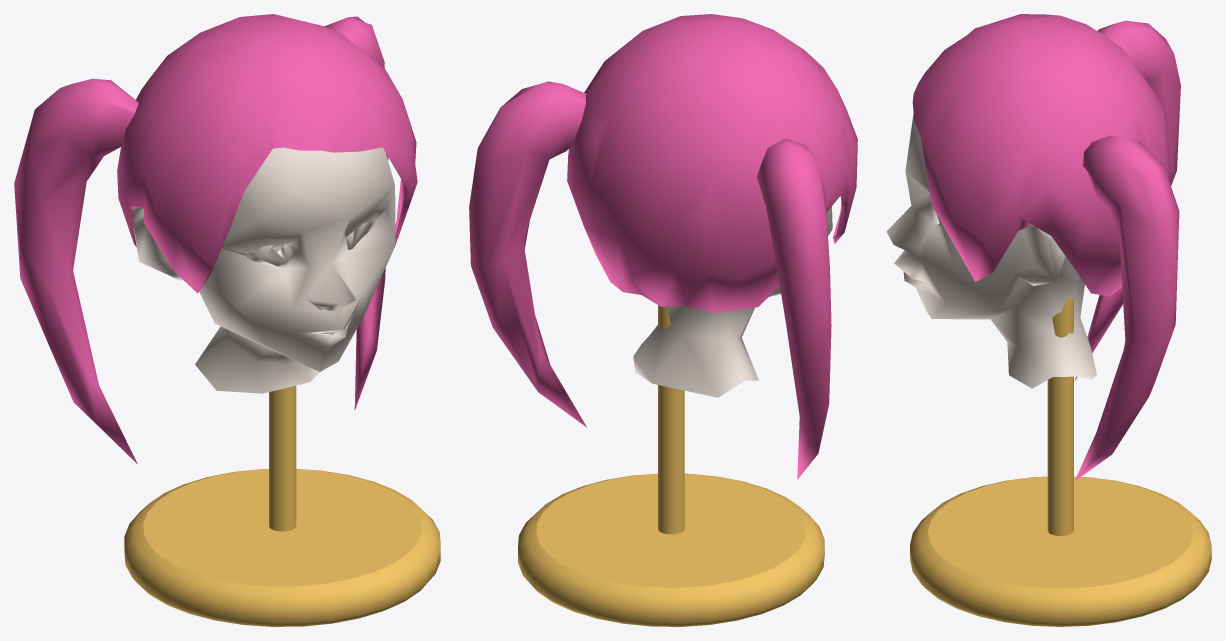
Rendered from rain.hair.rose-waves.lod1.glb.
3 renders of one model, left to right at view 1: azimuth 30°, elevation 25°; view 2: azimuth 150°, elevation 25°; view 3: azimuth 270°, elevation 25°, orthographic. The views are drawn at different scales.
Parts seen in each view (by area): view 1: Hairstyles.rose-waves.Crown, stand_base, GEO-rain-head, Hairstyles.rose-waves.Tail -1Anchor.Tail -1, stand_stem, Hairstyles.rose-waves.Tail 1Anchor.Tail 1, GEO-rain-eyes; view 2: Hairstyles.rose-waves.Crown, stand_base, Hairstyles.rose-waves.Tail 1Anchor.Tail 1, Hairstyles.rose-waves.Tail -1Anchor.Tail -1, GEO-rain-head, stand_stem; view 3: Hairstyles.rose-waves.Crown, stand_base, GEO-rain-head, Hairstyles.rose-waves.Tail 1Anchor.Tail 1, Hairstyles.rose-waves.Tail -1Anchor.Tail -1, stand_stem.
Boxes of the visible parts, x1,y1,x2,y2 form: Hairstyles.rose-waves.Crown: (117, 14, 417, 293); stand_base: (124, 469, 440, 626); GEO-rain-head: (132, 147, 395, 393); Hairstyles.rose-waves.Tail -1Anchor.Tail -1: (14, 78, 138, 464); stand_stem: (269, 251, 296, 531); Hairstyles.rose-waves.Tail 1Anchor.Tail 1: (325, 16, 388, 410); GEO-rain-eyes: (248, 221, 372, 266); Hairstyles.rose-waves.Crown: (567, 14, 857, 312); stand_base: (518, 473, 824, 626); Hairstyles.rose-waves.Tail 1Anchor.Tail 1: (469, 81, 586, 427); Hairstyles.rose-waves.Tail -1Anchor.Tail -1: (756, 138, 831, 479); GEO-rain-head: (633, 206, 832, 397); stand_stem: (658, 305, 684, 534); Hairstyles.rose-waves.Crown: (912, 14, 1171, 296); stand_base: (910, 476, 1211, 626); GEO-rain-head: (886, 113, 1096, 388); Hairstyles.rose-waves.Tail 1Anchor.Tail 1: (1075, 135, 1179, 480); Hairstyles.rose-waves.Tail -1Anchor.Tail -1: (1074, 20, 1180, 381); stand_stem: (1047, 296, 1073, 535).
Bounding box in the file's own units: 0.5196 × 0.7512 × 0.4175.
